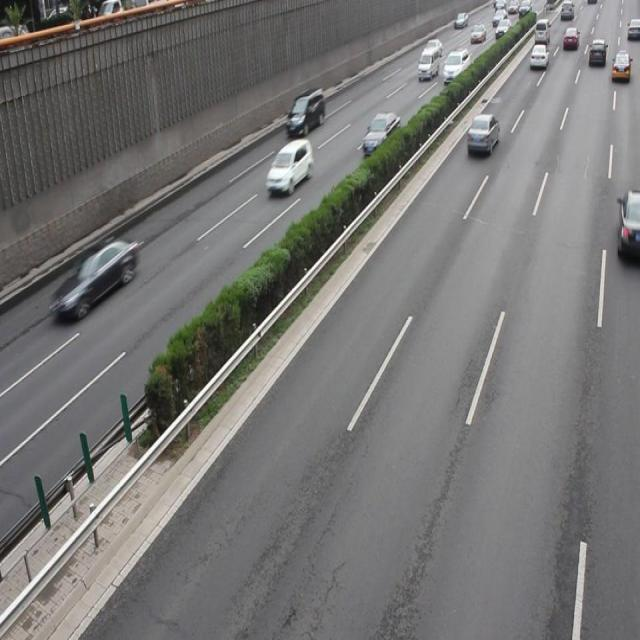car: (51, 236, 138, 320), (265, 137, 312, 192), (360, 110, 400, 160), (614, 188, 640, 260), (465, 112, 499, 156)
truck: (285, 88, 324, 136)
